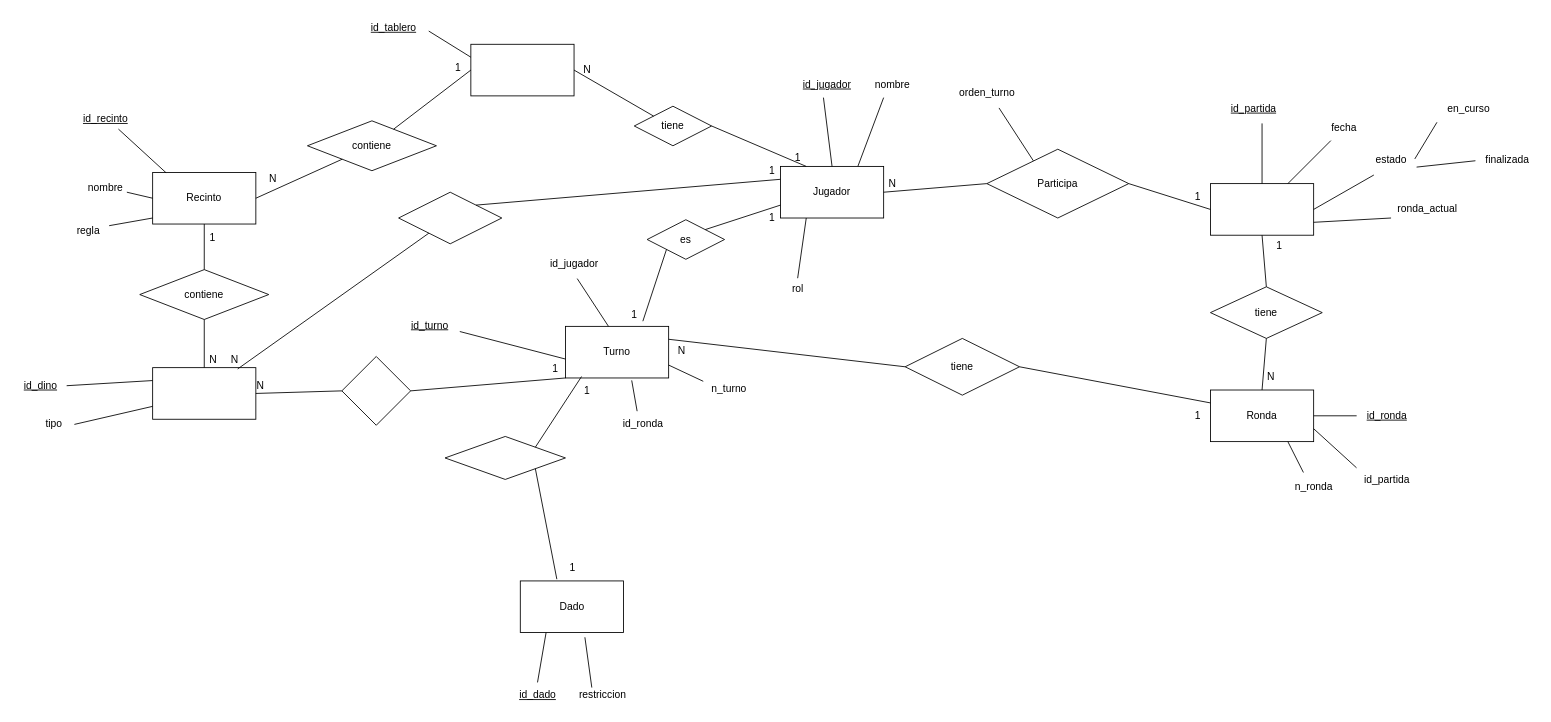
The diagram is 1551 pixels wide and 722 high, and some of its shapes have lost their labels. The centre of each missing label's shape, as x and y in pixels:
Dinosaurio: point 204,393
Partida: point 1262,209
pertenece: point 450,217
pretenece: point 376,390
Tablero: point 522,69
usa: point 504,457
